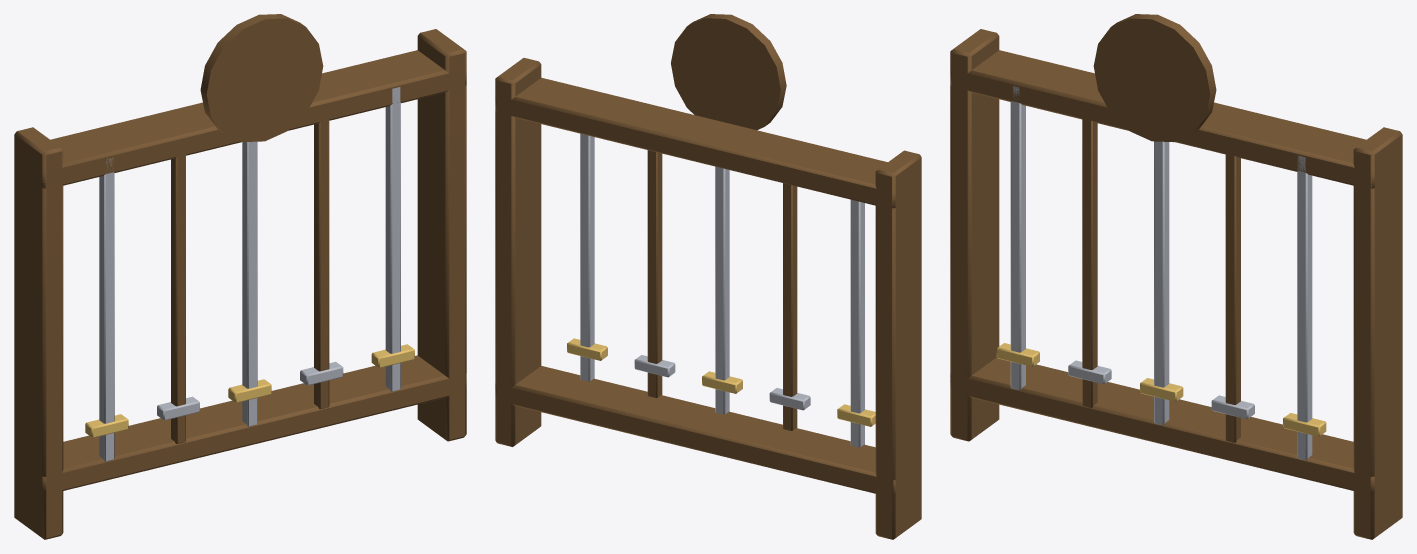
Rendered from rack.glb.
3 renders of one model, left to right at view 1: azimuth 30°, elevation 25°; view 2: azimuth 150°, elevation 25°; view 3: azimuth 330°, elevation 25°, orthographic. The views are drawn at different scales.
Parts seen in each view (by area): view 1: building; view 2: building; view 3: building.
Part boxes in pixels (x1=…): building: x1=14, y1=14, x2=466, y2=539; building: x1=495, y1=14, x2=921, y2=539; building: x1=950, y1=14, x2=1402, y2=539.
Bounding box in the file's own units: 1.6 × 1.72 × 0.26.
